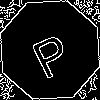P: (25, 25, 75, 80)
